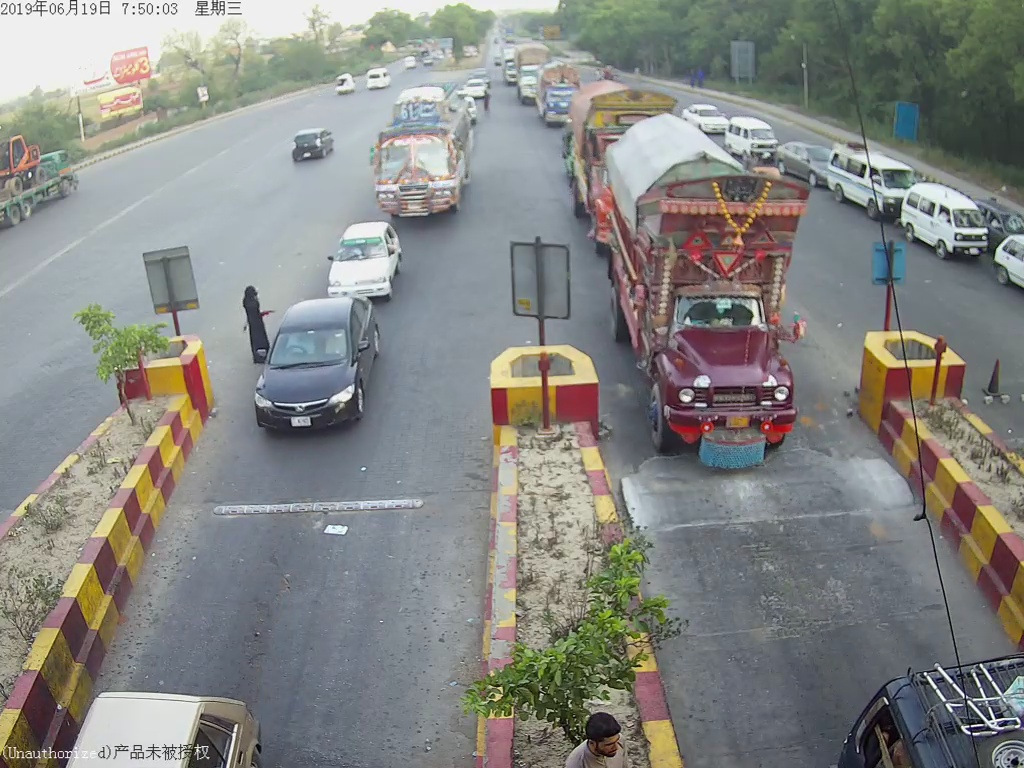Cat-1: (250, 293, 382, 429), (322, 218, 400, 302)
Cat-3: (366, 82, 474, 216)
Cat-4: (612, 117, 819, 453), (557, 75, 657, 253)
